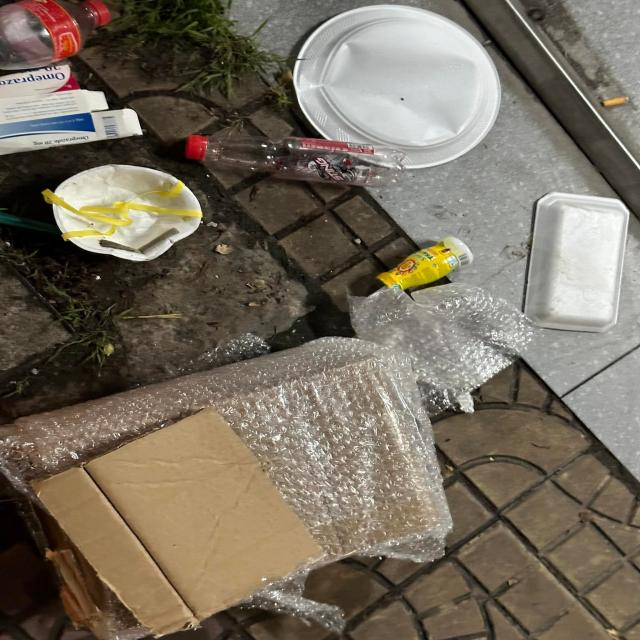bag: (0, 336, 454, 640), (347, 283, 545, 417)
bottle: (185, 135, 406, 187), (0, 0, 111, 70), (375, 237, 474, 290)
cardboard box: (0, 336, 454, 640), (0, 64, 143, 155)
foam box: (524, 192, 631, 334)
mask: (41, 164, 202, 261)
plastic holder: (293, 4, 502, 170)
